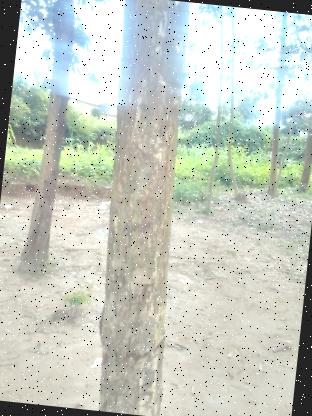tree: (73, 0, 210, 416), (0, 0, 96, 280)
